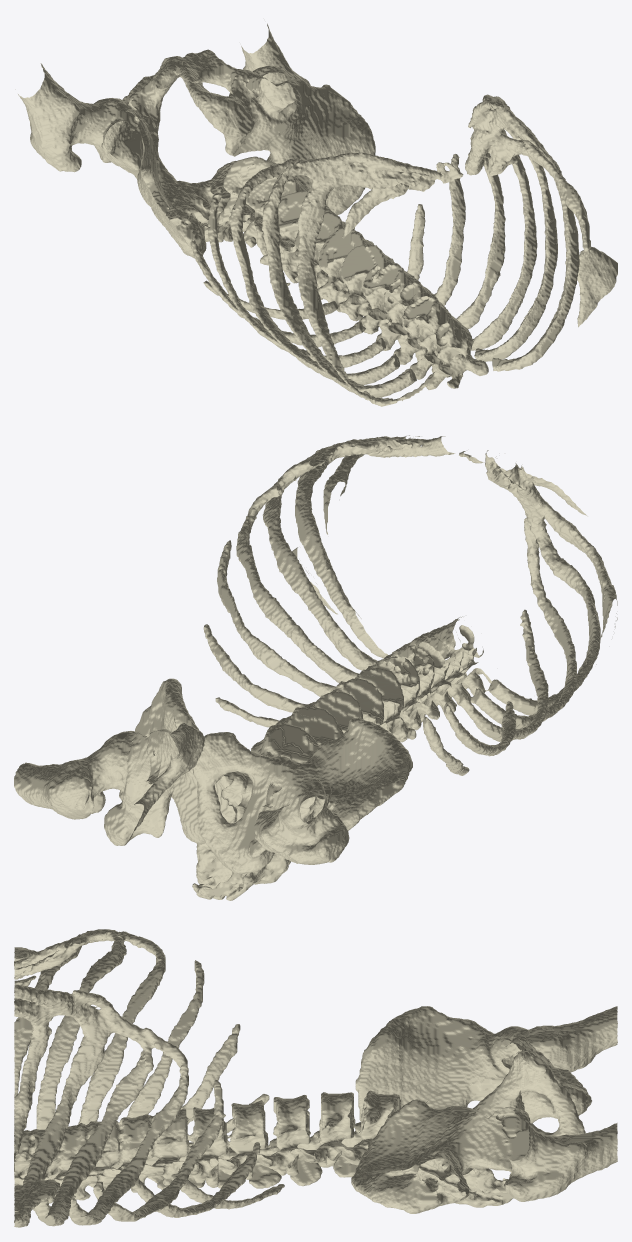
Rendered from bones.glb.
3 views of the same model, one above another, from view 1: azimuth 30°, elevation 25°; view 2: azimuth 150°, elevation 25°; view 3: azimuth 270°, elevation 25° (orthographic). The views are drawn at different scales.
Parts seen in each view (by area): view 1: bones.stl; view 2: bones.stl; view 3: bones.stl.
Part boxes in pixels (bbox=[...]): bones.stl: bbox=[15, 23, 617, 406]; bones.stl: bbox=[14, 435, 617, 900]; bones.stl: bbox=[14, 929, 617, 1227].
Size of the model in its own units: 324 by 246 by 546.
